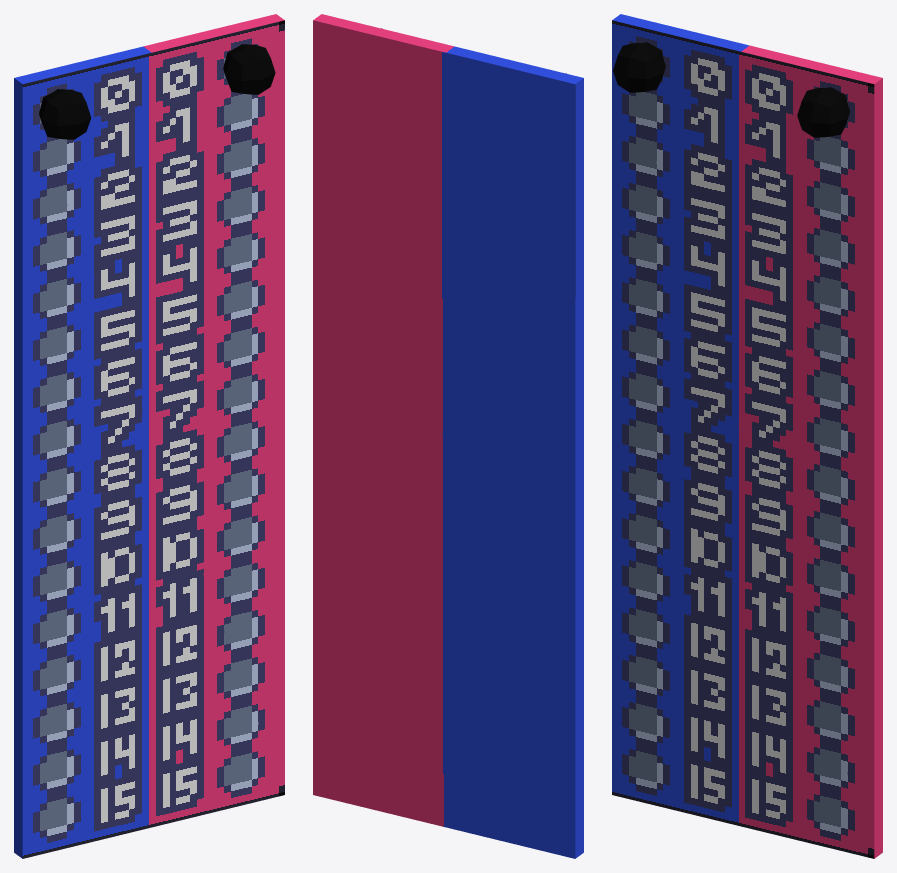
The model's file is score2.glb.
3 renders of one model, left to right at view 1: azimuth 30°, elevation 25°; view 2: azimuth 150°, elevation 25°; view 3: azimuth 330°, elevation 25°, orthographic.
Parts seen in each view (by area): view 1: scoreboard, bolita rosa, bolita azul; view 2: scoreboard; view 3: scoreboard, bolita rosa, bolita azul.
Part boxes in pixels (left/top/right/bottom): scoreboard: left=14, top=14, right=284, bottom=858; bolita rosa: left=223, top=44, right=275, bottom=94; bolita azul: left=39, top=89, right=91, bottom=139; scoreboard: left=313, top=14, right=583, bottom=858; scoreboard: left=612, top=14, right=882, bottom=858; bolita rosa: left=797, top=87, right=849, bottom=137; bolita azul: left=613, top=42, right=665, bottom=92.
Size of the model in its own units: 1.77 by 4.99 by 0.3407.
Materials: 3 (1 with a texture image).
